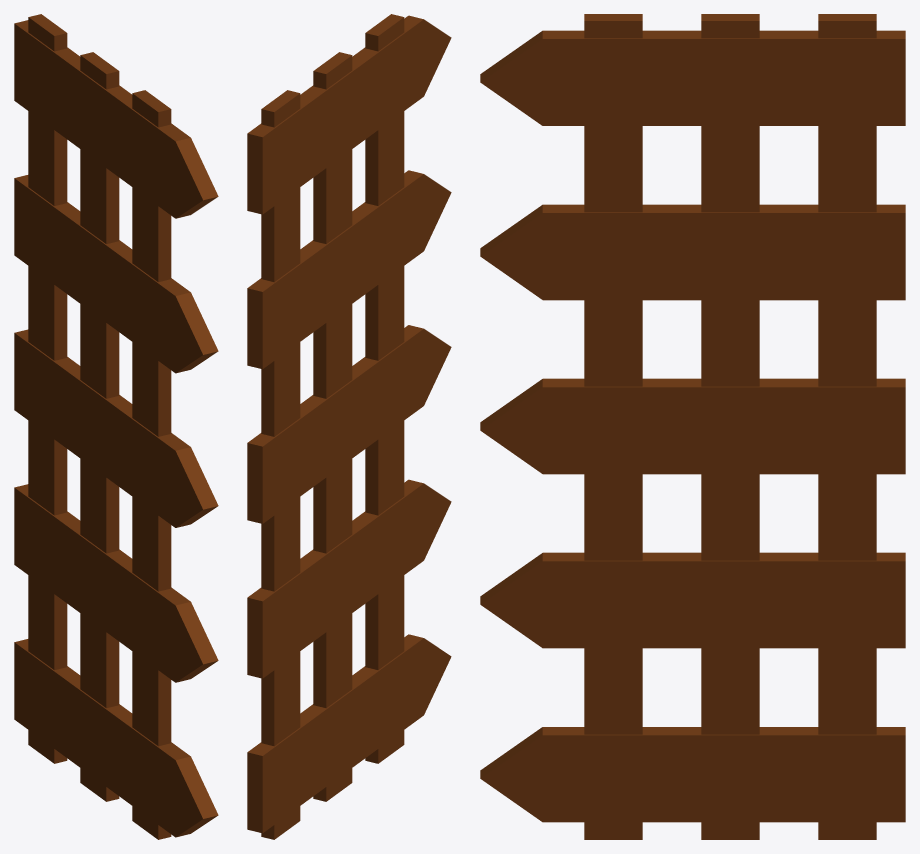
File: fence.gltf
3 renders of one model, left to right at view 1: azimuth 30°, elevation 25°; view 2: azimuth 150°, elevation 25°; view 3: azimuth 270°, elevation 25°, orthographic. The views are drawn at different scales.
Visible parts, largest first — view 1: Cube.003; view 2: Cube.003; view 3: Cube.003.
Boxes of the visible parts, x1,y1,x2,y2 form: Cube.003: [14, 14, 218, 839]; Cube.003: [247, 14, 451, 839]; Cube.003: [480, 14, 905, 839].
Bounding box in the file's own units: 0.1241 × 5.6 × 2.64.
